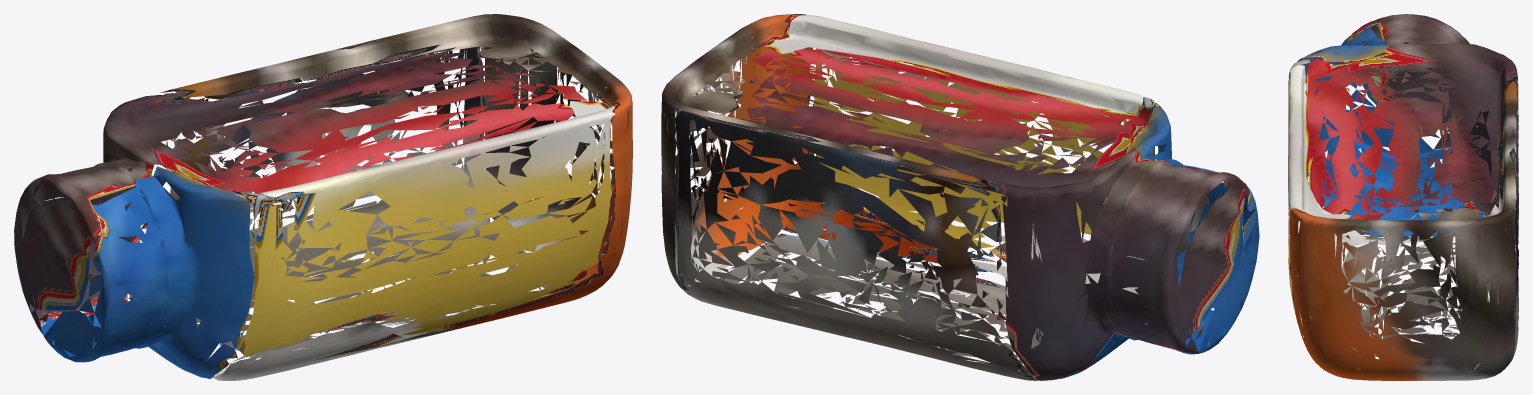
File: glas-schraubglas.glb
3 renders of one model, left to right at view 1: azimuth 30°, elevation 25°; view 2: azimuth 150°, elevation 25°; view 3: azimuth 270°, elevation 25°, orthographic. The views are drawn at different scales.
Visible parts, largest first — view 1: glas-schraubglas; view 2: glas-schraubglas; view 3: glas-schraubglas.
Part boxes in pixels (<box>): glas-schraubglas: <box>14,14,632,380</box>; glas-schraubglas: <box>661,14,1259,380</box>; glas-schraubglas: <box>1288,14,1518,380</box>.
Size of the model in its own units: 0.1328 by 0.0508 by 0.0601.
Materials: 1 (1 with a texture image).
